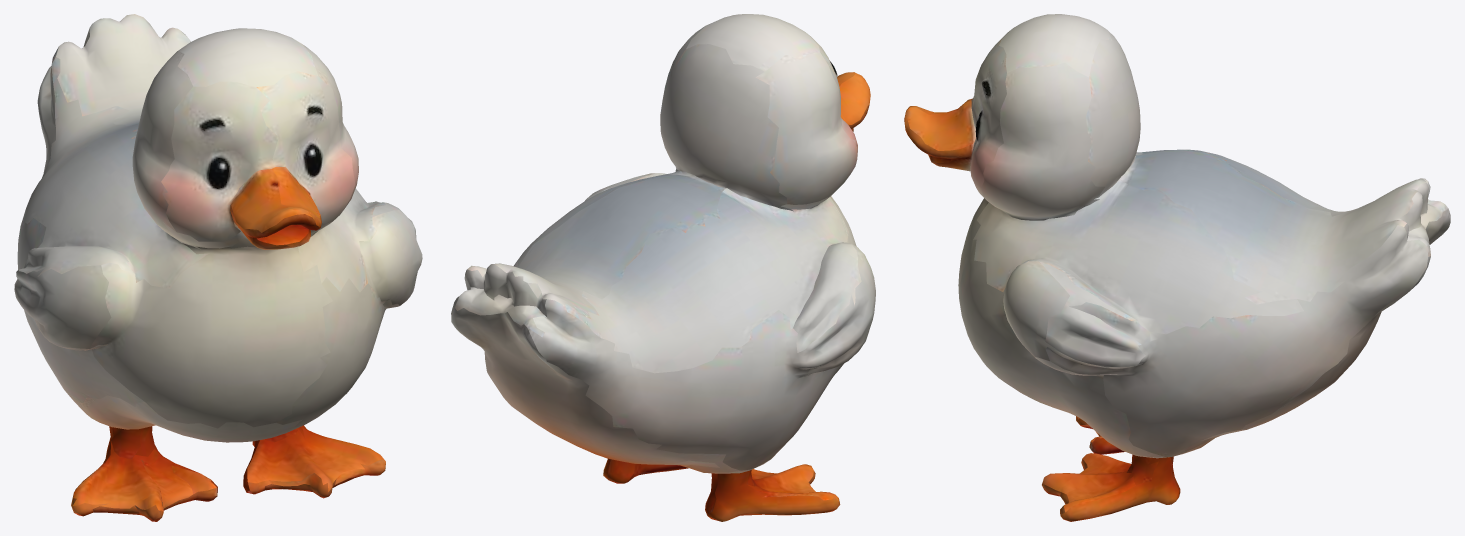
Rendered from duck.glb.
The picture shows the model from 3 angles, left to right: view 1: azimuth 30°, elevation 25°; view 2: azimuth 150°, elevation 25°; view 3: azimuth 270°, elevation 25°; orthographic projection. The views are drawn at different scales.
Visible parts, largest first — view 1: duck2; view 2: duck2; view 3: duck2.
Part boxes in pixels (left/top/right/bottom): duck2: left=14, top=14, right=422, bottom=521; duck2: left=451, top=14, right=875, bottom=521; duck2: left=904, top=14, right=1450, bottom=521.
Bounding box in the file's own units: 0.6813 × 0.8841 × 1.
1 material, 1 textured.
